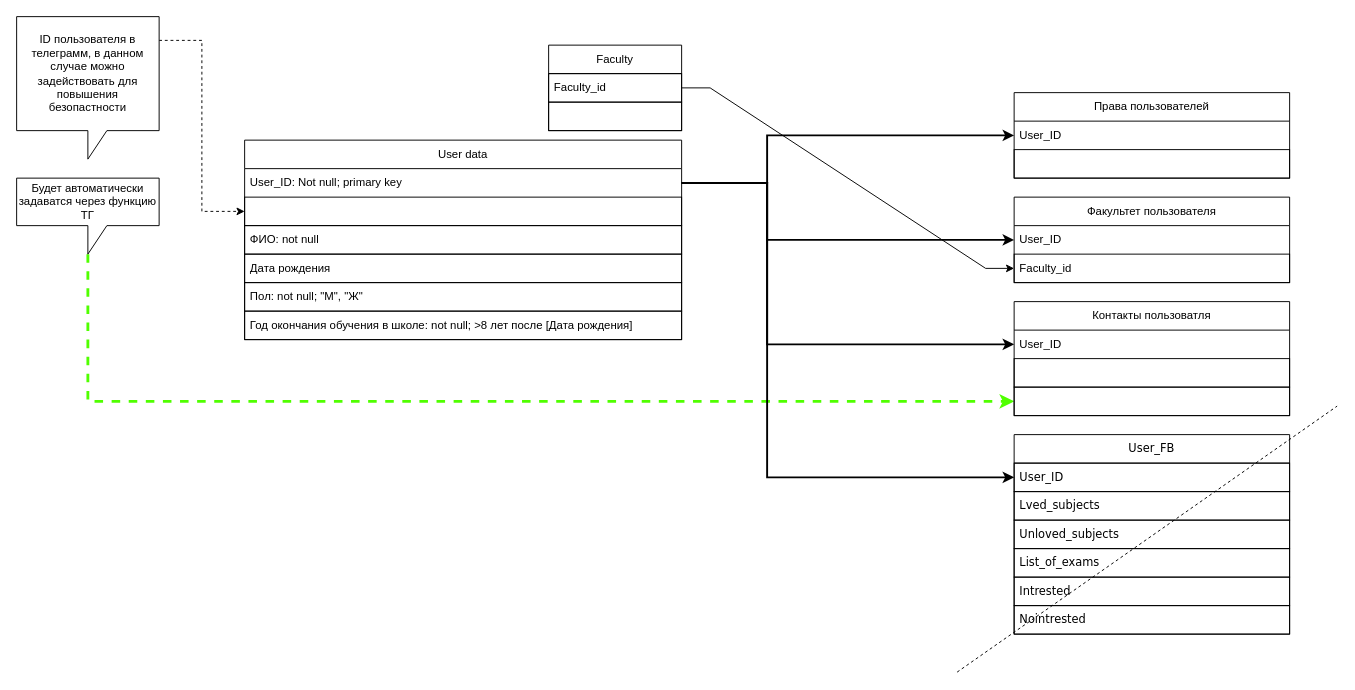
Some shapes in this 1355 by 690 pixel diagram are drawn without their labels. The shapes that lost their labels are listed below. From the top down, each one's centre as x and y in pixels, then its label:
the point at 615,116: Faculty_name
the point at 1151,163: User type: not null; admin, user, test
the point at 463,211: Telegramm_User_ID
the point at 1151,372: Email: null
the point at 1151,401: Tel.: null; format: +7 (xxx) xxx-xx-xx
